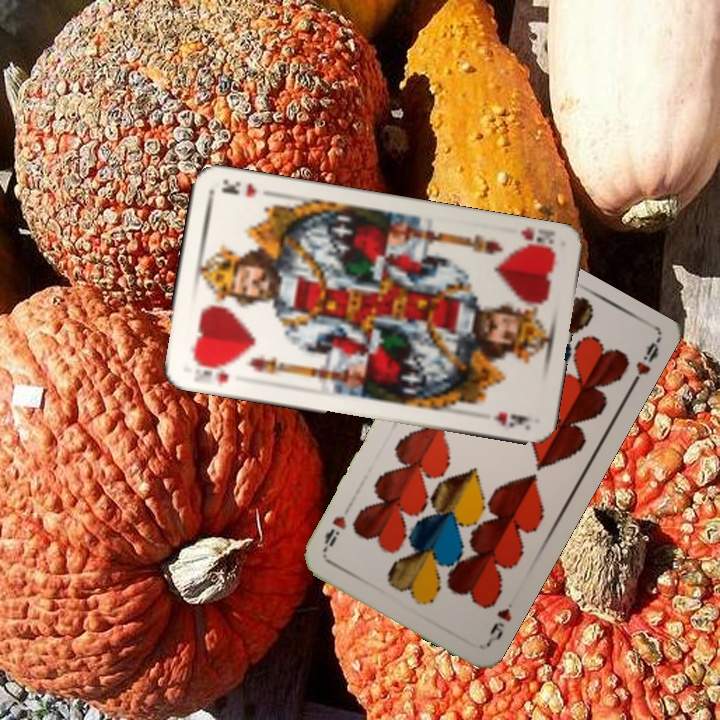H9: (483, 604, 514, 646)
HK: (514, 224, 558, 256), (189, 356, 233, 386)
